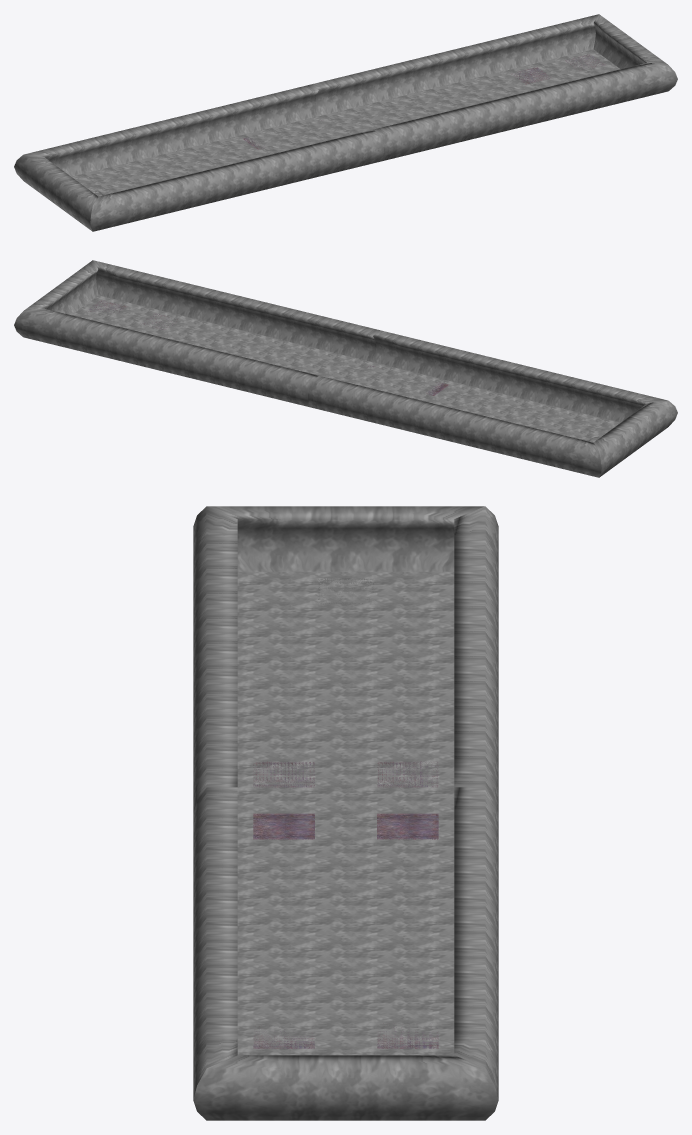
Rendered from level_10.gltf.
3 views of the same model, one above another, from view 1: azimuth 30°, elevation 25°; view 2: azimuth 150°, elevation 25°; view 3: azimuth 270°, elevation 25° (orthographic). The views are drawn at different scales.
Visible parts, largest first — view 1: Mesh_6, Mesh_2, Mesh_4, Mesh_7, Mesh_1, Mesh_0, Mesh_5, Mesh_3, Mesh_9; view 2: Mesh_4, Mesh_7, Mesh_6, Mesh_2, Mesh_1, Mesh_0, Mesh_5, Mesh_3; view 3: Mesh_0, Mesh_1, Mesh_3, Mesh_5, Mesh_2, Mesh_7, Mesh_4, Mesh_6, Mesh_8, Mesh_9.
Part boxes in pixels (x1,y1,x2,y2): Mesh_6: [373, 62, 677, 161]; Mesh_2: [90, 129, 383, 231]; Mesh_4: [311, 14, 598, 116]; Mesh_7: [24, 84, 318, 176]; Mesh_1: [319, 49, 620, 135]; Mesh_0: [71, 116, 345, 194]; Mesh_5: [14, 154, 98, 231]; Mesh_3: [593, 14, 667, 68]; Mesh_9: [511, 54, 605, 84]; Mesh_4: [14, 308, 318, 407]; Mesh_7: [308, 375, 601, 477]; Mesh_6: [93, 260, 380, 362]; Mesh_2: [373, 330, 667, 422]; Mesh_1: [71, 295, 372, 381]; Mesh_0: [346, 362, 620, 440]; Mesh_5: [593, 400, 677, 477]; Mesh_3: [24, 260, 98, 314]; Mesh_0: [237, 571, 454, 839]; Mesh_1: [237, 839, 454, 1055]; Mesh_3: [193, 1055, 498, 1120]; Mesh_5: [208, 506, 483, 571]; Mesh_2: [193, 506, 237, 812]; Mesh_7: [454, 506, 498, 812]; Mesh_4: [454, 787, 498, 1098]; Mesh_6: [193, 787, 237, 1098]; Mesh_8: [253, 761, 438, 839]; Mesh_9: [253, 1023, 438, 1048].
Bounding box in the file's own units: 35.66 × 1.52 × 8.03.
Materials: 4 (4 with a texture image).
